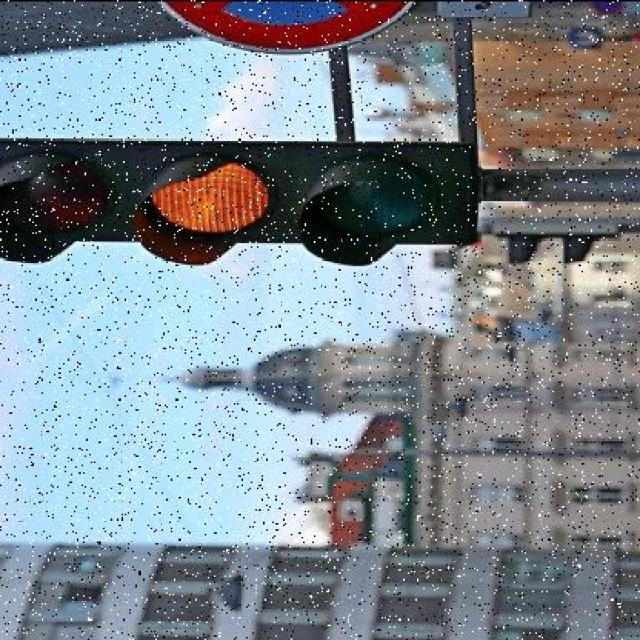yellow-light: (0, 129, 469, 264)
